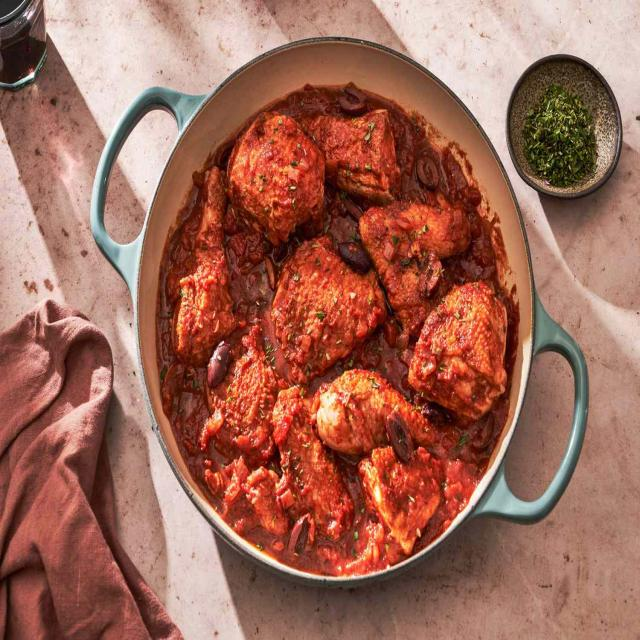Chicken Gravy: (129, 39, 544, 589)
